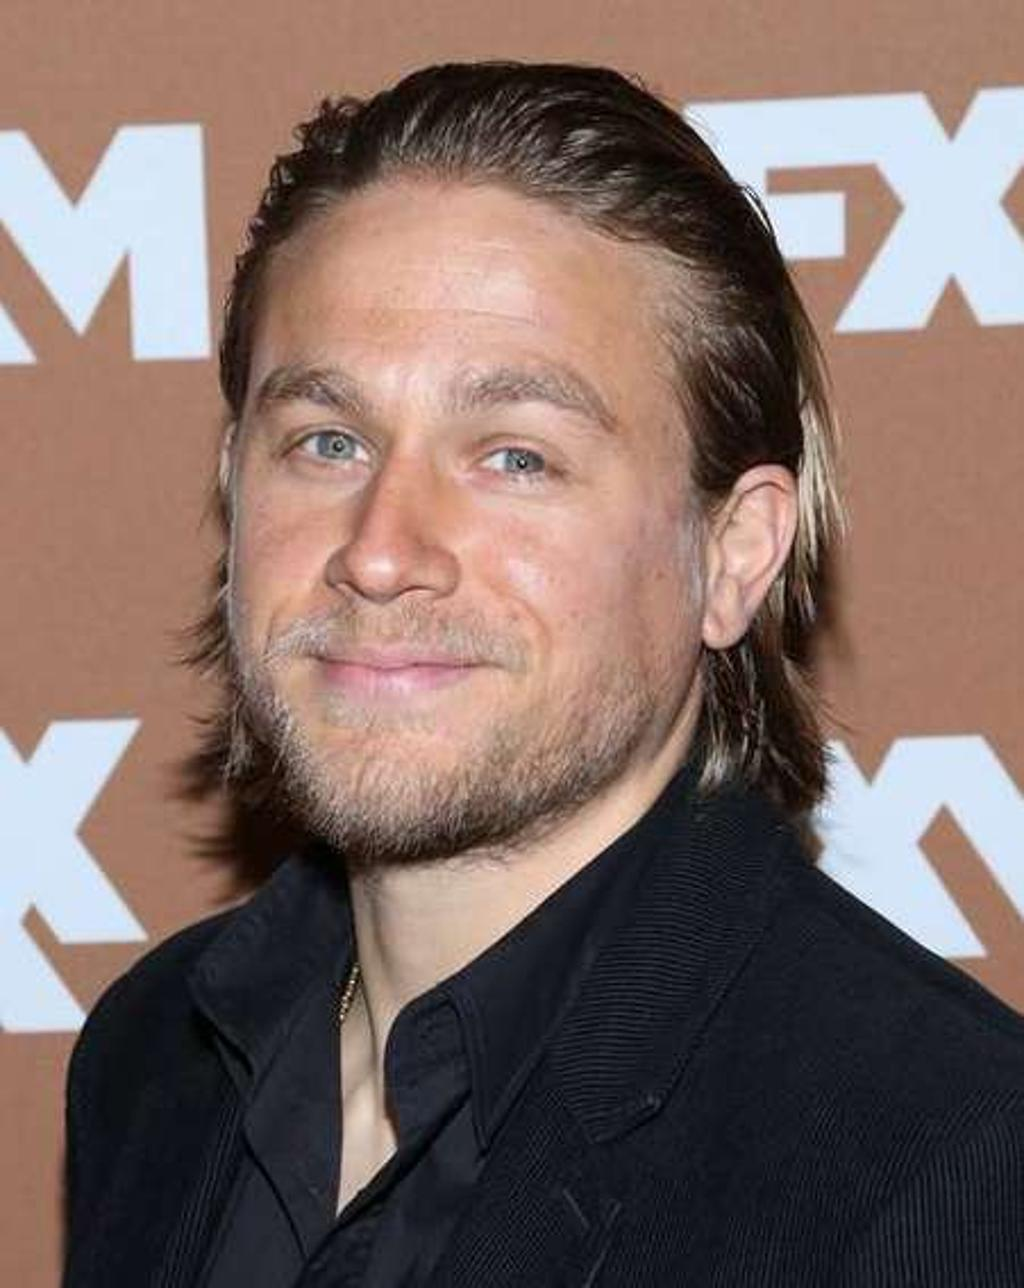face: (229, 186, 712, 838)
